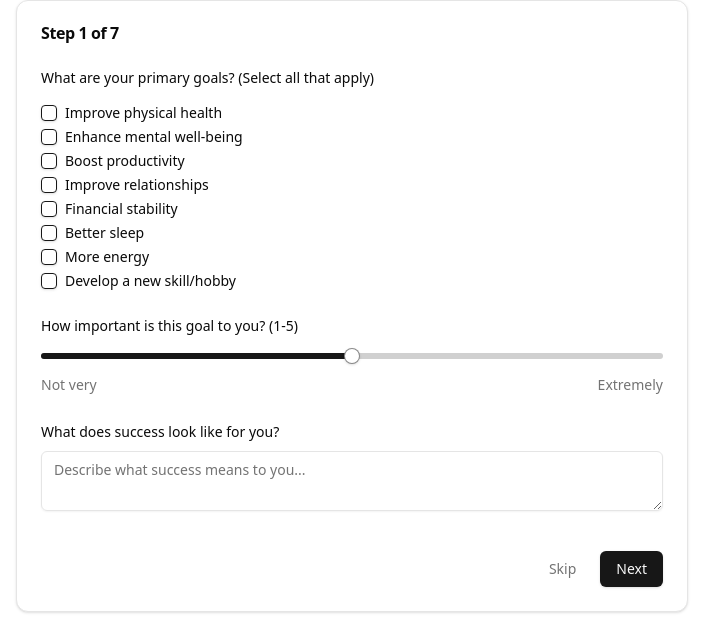
OnboardingForm › can skip steps
Click the button "Skip". click: (563, 569)
box: [533,551,592,587]
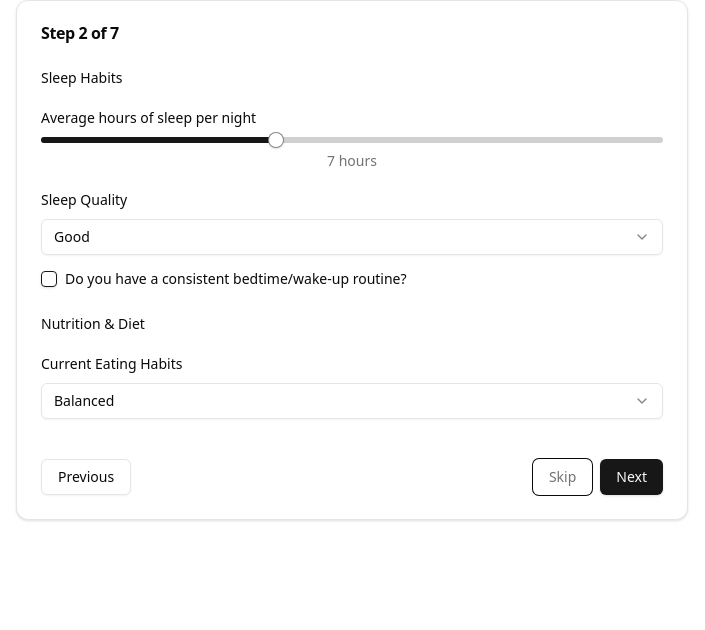
Expected: the heading "Step 2 of 7" is shown, [41,22,119,44]
